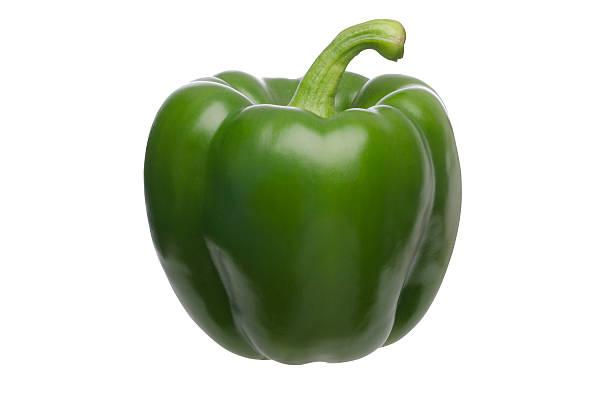Capsicum: (145, 20, 460, 363)
